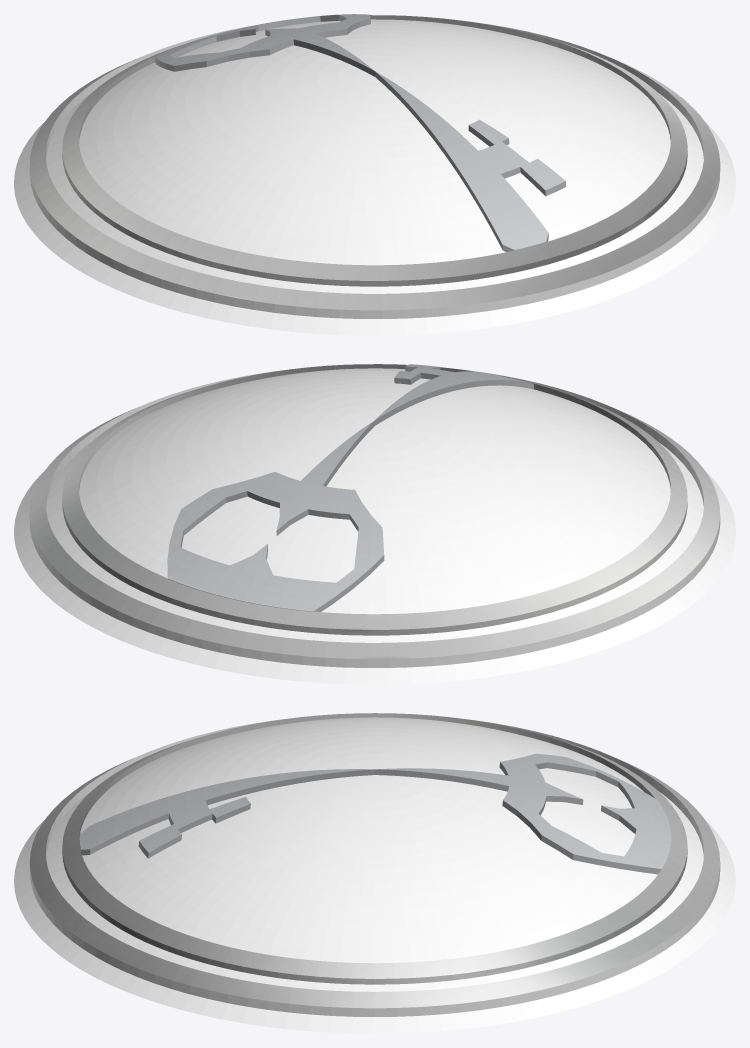
The model's file is keycoin.glb.
3 views of the same model, one above another, from view 1: azimuth 30°, elevation 25°; view 2: azimuth 150°, elevation 25°; view 3: azimuth 270°, elevation 25° (orthographic).
Parts seen in each view (by area): view 1: button body, inner ring, outter ring, key; view 2: button body, inner ring, key, outter ring; view 3: button body, inner ring, key, outter ring.
Part boxes in pixels (left/top/right/bottom): button body: left=14, top=19, right=735, bottom=335; inner ring: left=62, top=15, right=687, bottom=286; outter ring: left=29, top=57, right=720, bottom=310; key: left=155, top=14, right=566, bottom=251; button body: left=14, top=368, right=735, bottom=684; inner ring: left=62, top=364, right=687, bottom=635; key: left=167, top=364, right=533, bottom=611; outter ring: left=29, top=406, right=720, bottom=659; button body: left=14, top=717, right=735, bottom=1033; inner ring: left=62, top=713, right=687, bottom=984; key: left=79, top=753, right=671, bottom=874; outter ring: left=29, top=758, right=720, bottom=1008.
Size of the model in its own units: 1.18 by 0.2236 by 1.18.
5 materials, 4 textured.
